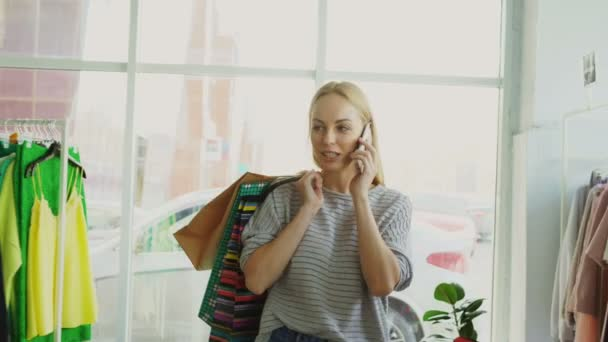phone: (348, 121, 380, 174)
talk: (305, 112, 385, 195)
